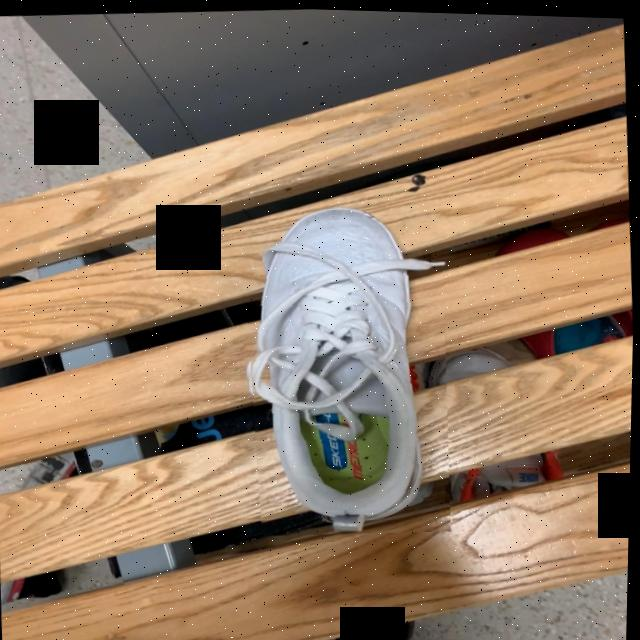shoe: (252, 207, 444, 532)
